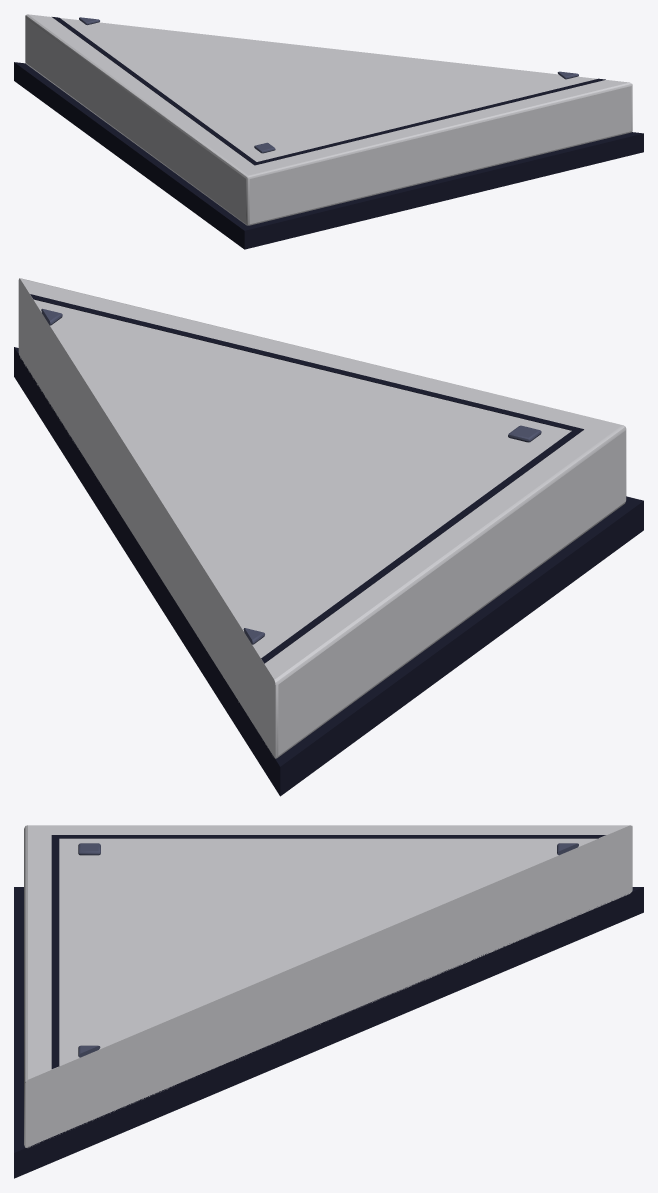
Rendered from roof.slope1.light.glb.
The picture shows the model from 3 angles, top to bottom: view 1: azimuth 30°, elevation 25°; view 2: azimuth 150°, elevation 25°; view 3: azimuth 270°, elevation 25°; orthographic projection. The views are drawn at different scales.
Parts seen in each view (by area): view 1: GEO-roof.slope1.light; view 2: GEO-roof.slope1.light; view 3: GEO-roof.slope1.light.
Boxes of the visible parts, box(x1,y1,x2,y2) form: GEO-roof.slope1.light: box(14, 14, 643, 249); GEO-roof.slope1.light: box(14, 278, 643, 796); GEO-roof.slope1.light: box(14, 825, 643, 1178).
Bounding box in the file's own units: 1 × 0.17 × 1.
